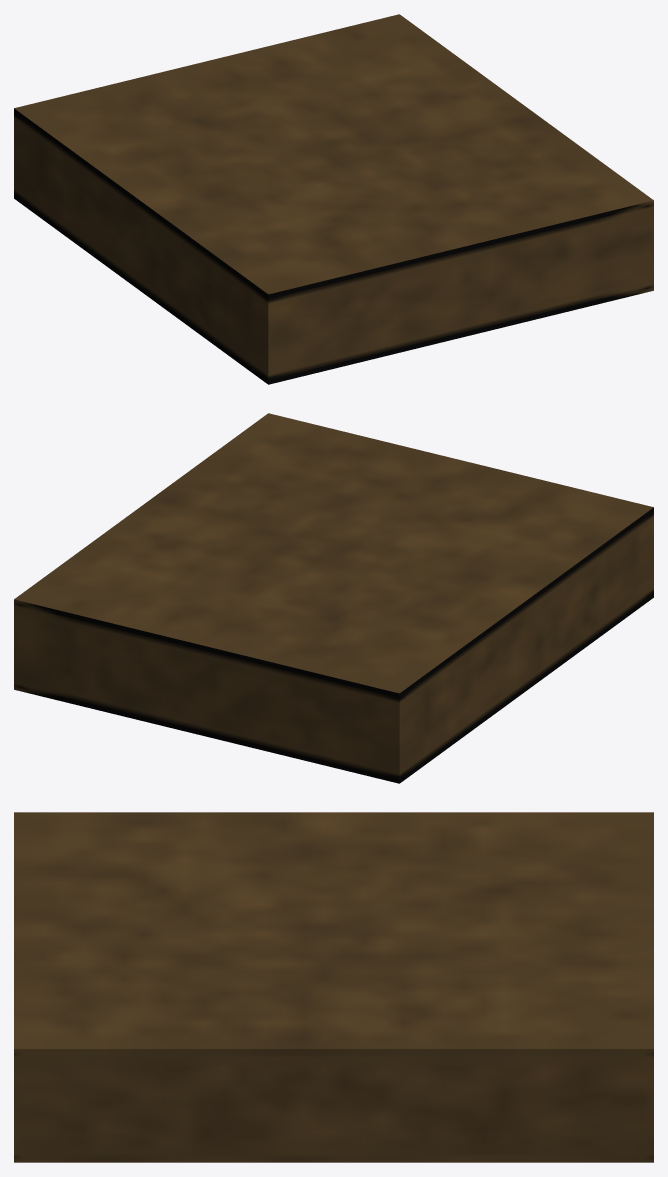
The model's file is Hanger _ lower bearing__n2.glb.
3 renders of one model, top to bottom at view 1: azimuth 30°, elevation 25°; view 2: azimuth 150°, elevation 25°; view 3: azimuth 270°, elevation 25°, orthographic. The views are drawn at different scales.
Visible parts, largest first — view 1: Hanger | lower bearing; view 2: Hanger | lower bearing; view 3: Hanger | lower bearing.
Boxes of the visible parts, left/top/right/bottom form: Hanger | lower bearing: left=14, top=14, right=653, bottom=384; Hanger | lower bearing: left=14, top=413, right=653, bottom=783; Hanger | lower bearing: left=14, top=812, right=653, bottom=1162.
Size of the model in its own units: 0.21 by 0.047 by 0.24.
1 material, 1 textured.
